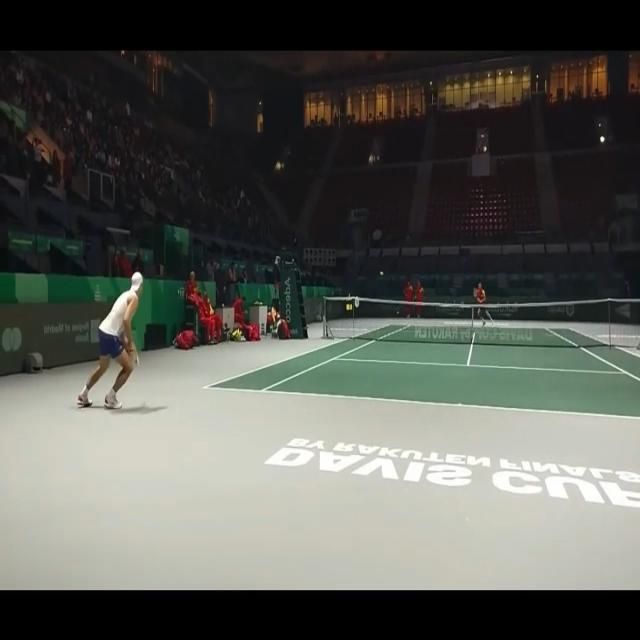court: (201, 324, 640, 421)
net: (320, 294, 640, 346)
player: (77, 270, 143, 410)
